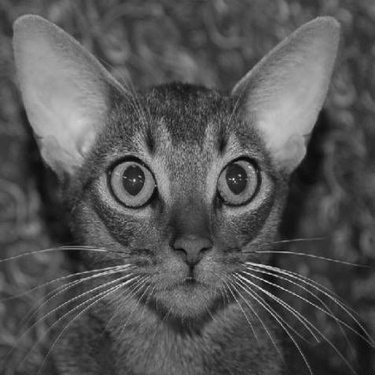cat: (16, 9, 343, 368)
